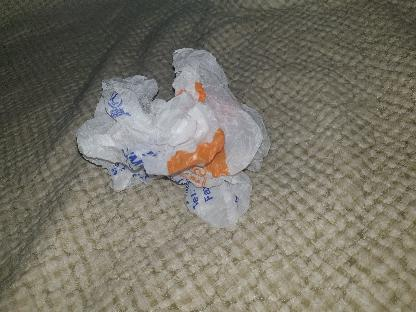Plastic Bag: (78, 47, 272, 232)
